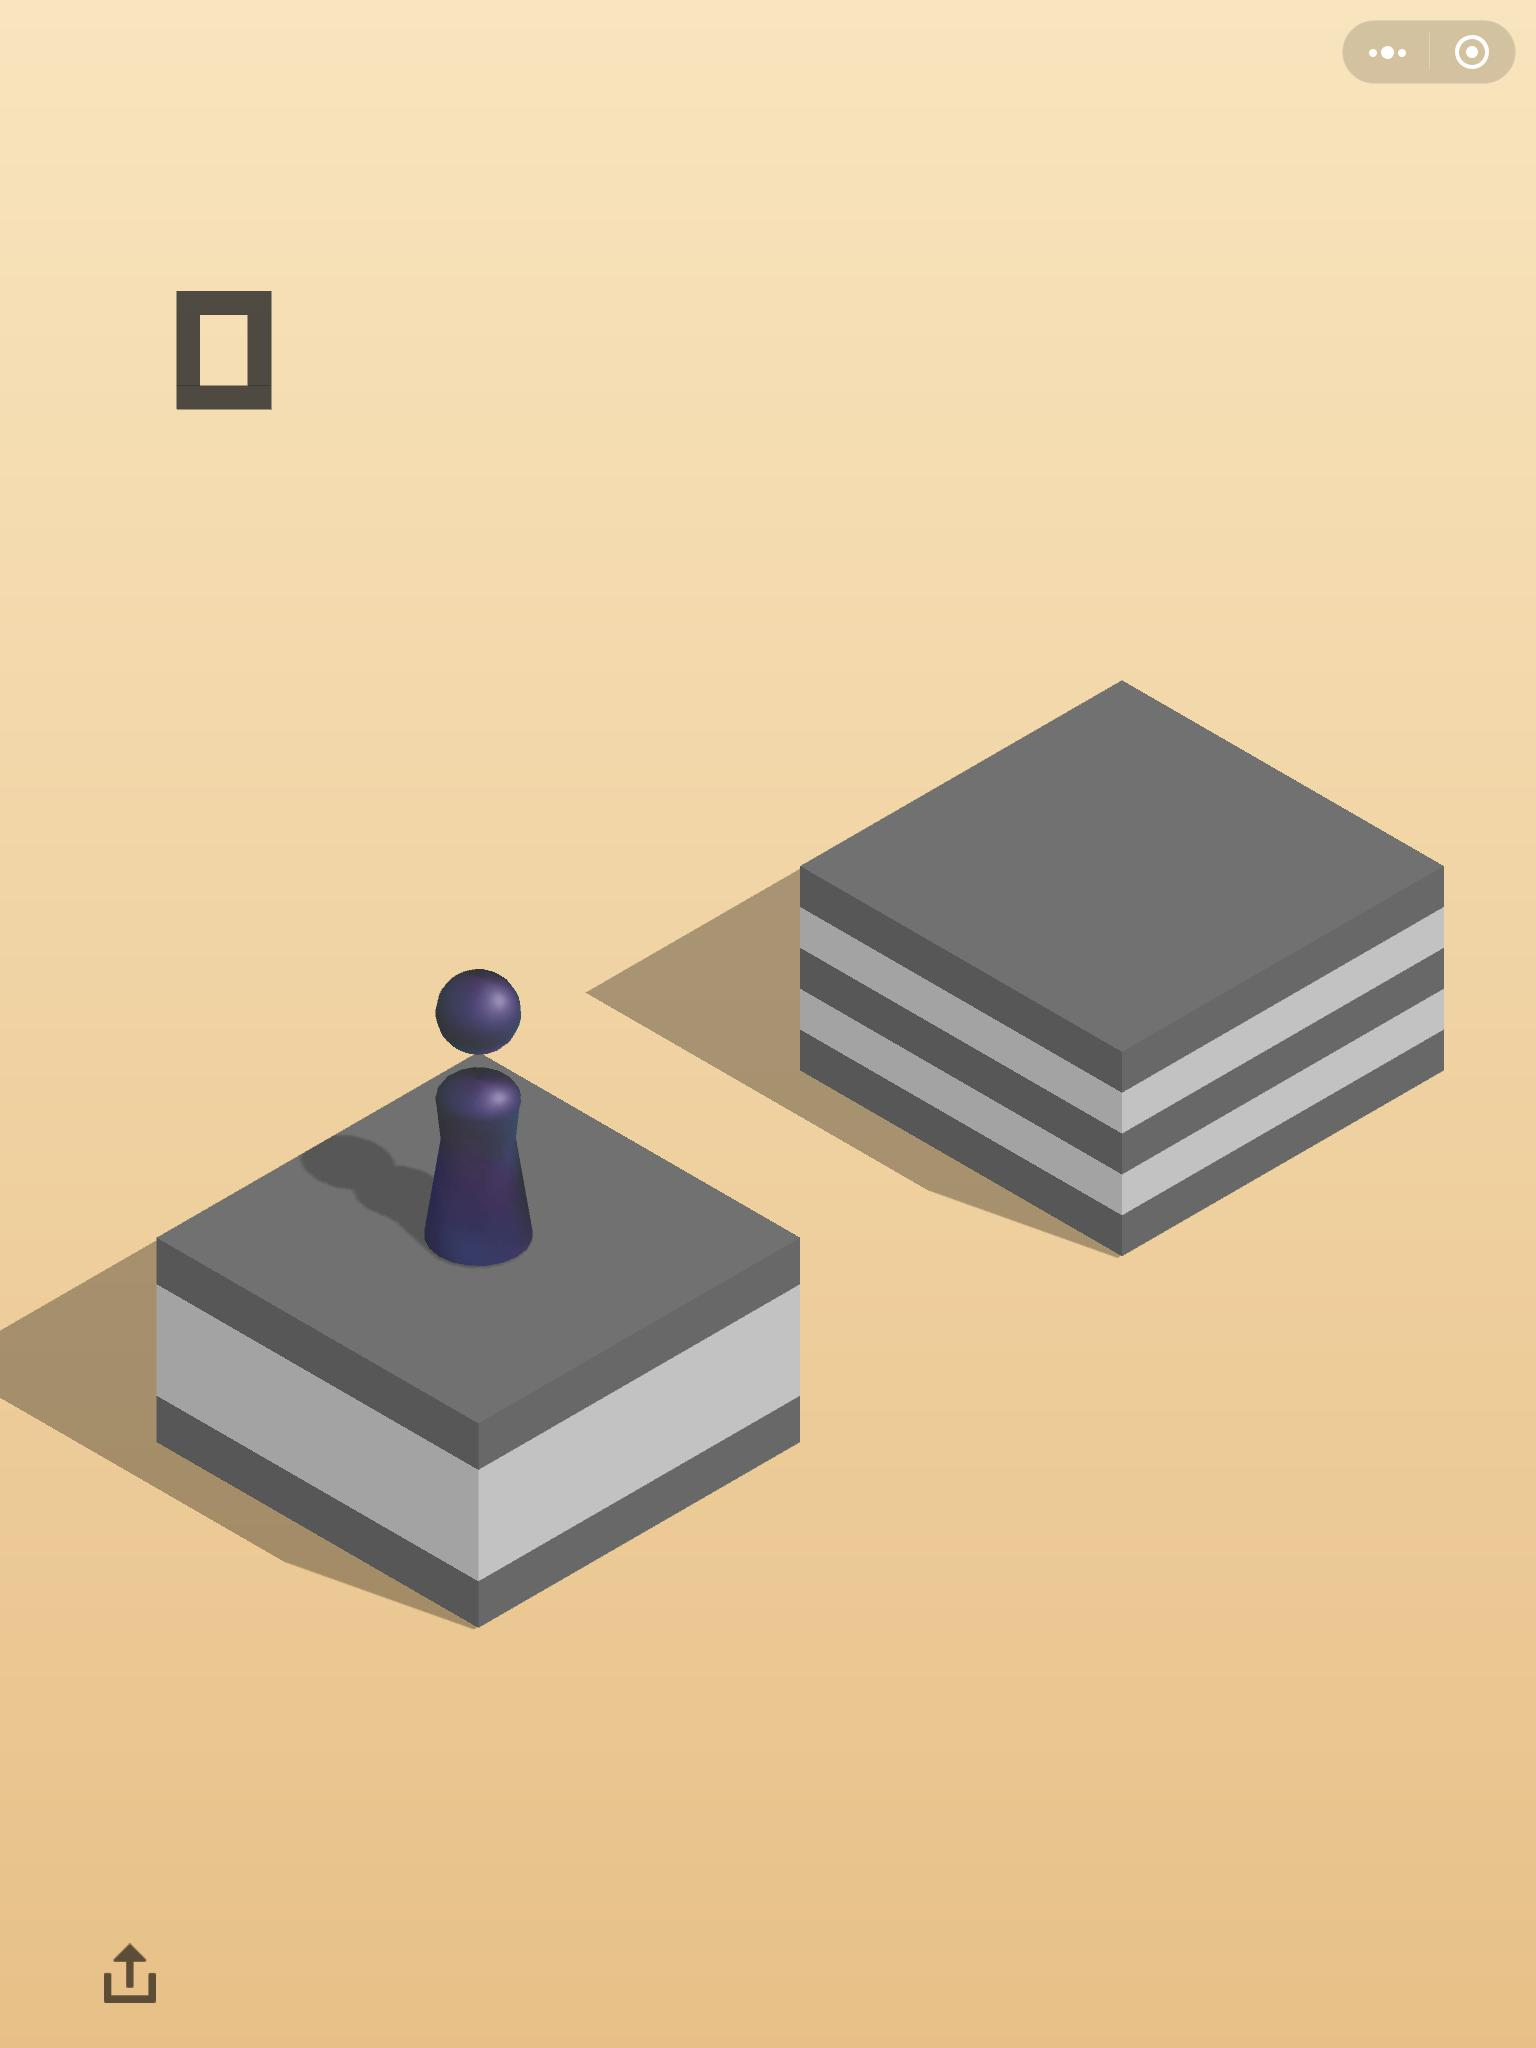f: (131, 1045, 813, 1642), (791, 672, 1455, 1280)
r: (416, 958, 549, 1272)
